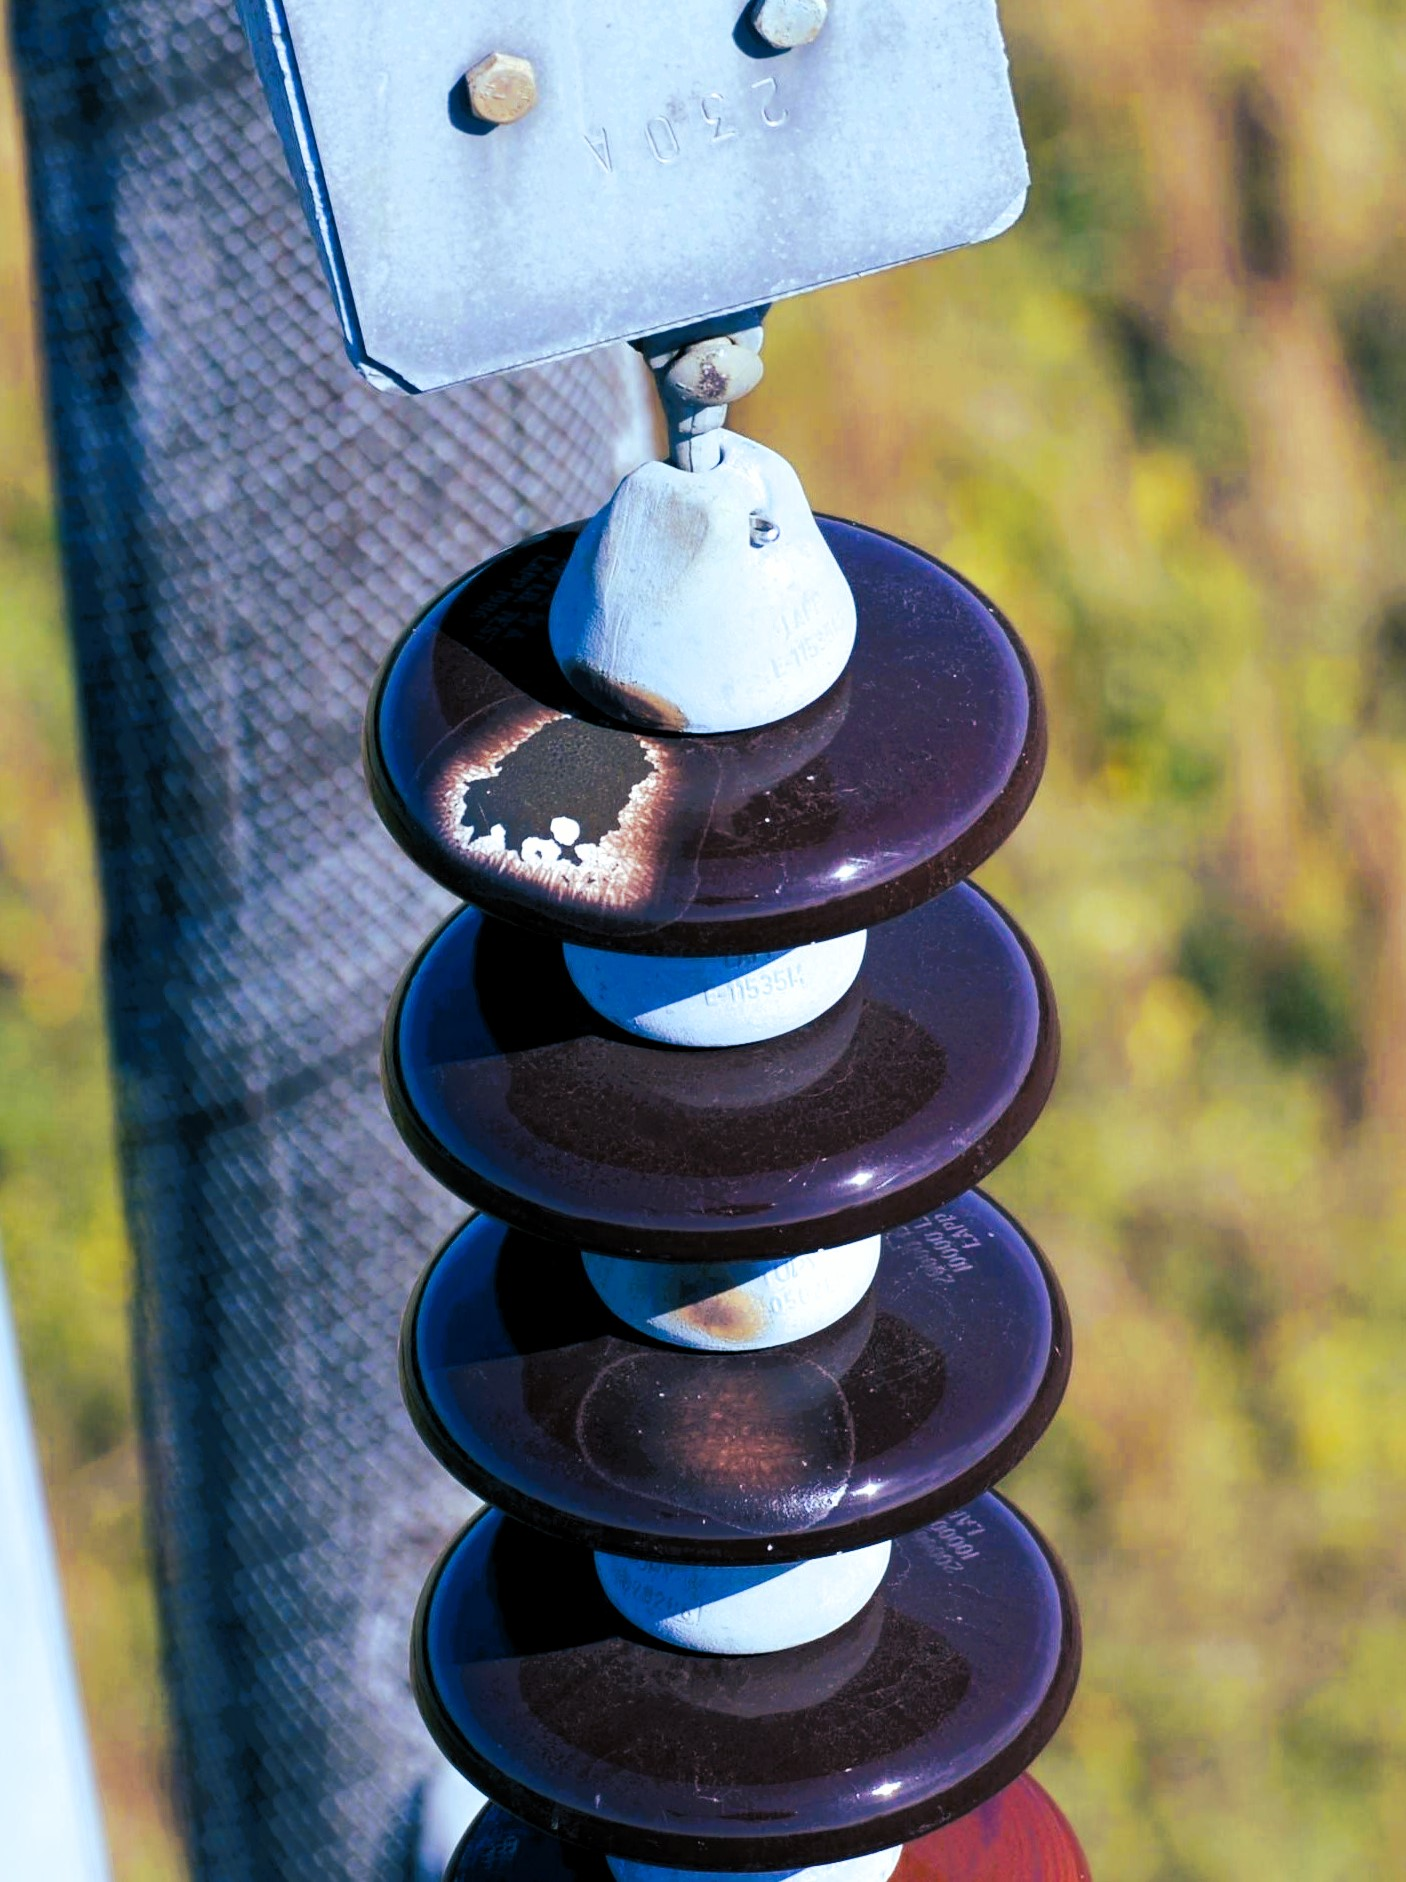Insulator flashover: (347, 495, 1066, 968)
